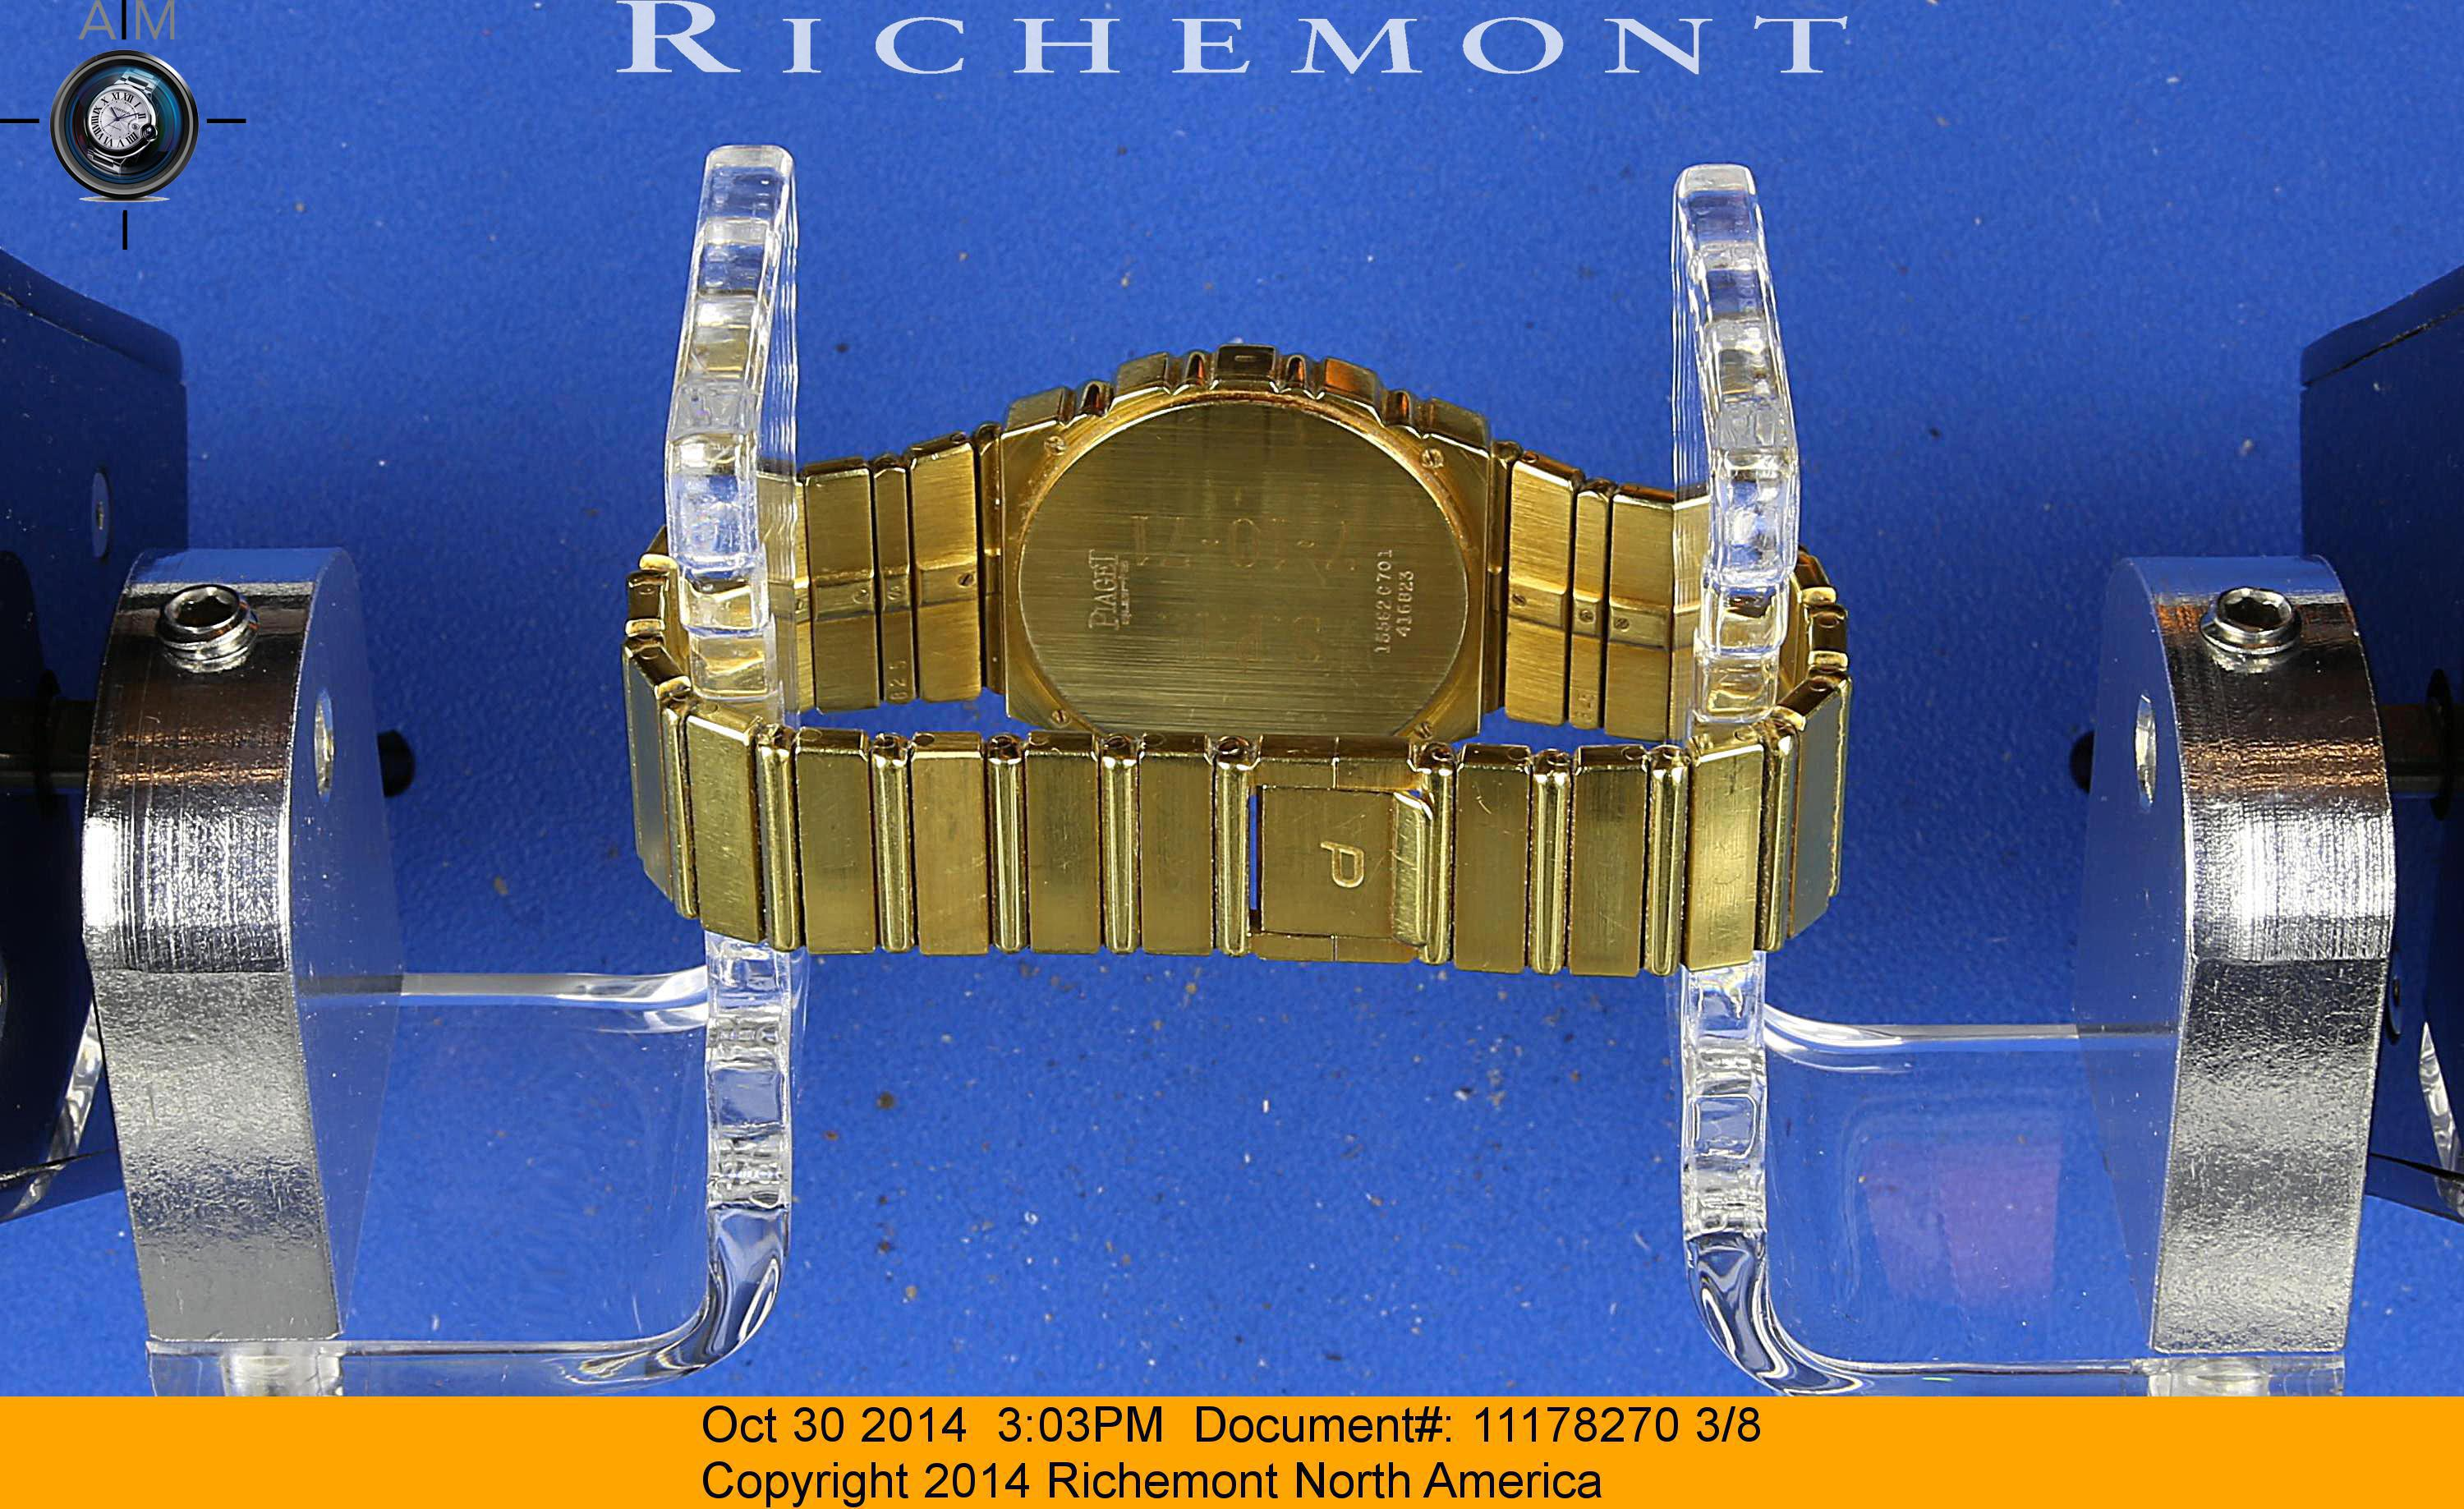Watch BackCase: (973, 292, 1505, 754)
